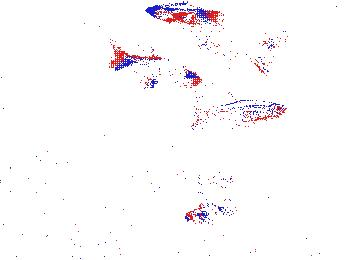X-ray fish: (148, 59, 196, 100)
red belly glassfish: (173, 168, 237, 195), (183, 203, 229, 225)
redtail glassfish: (192, 33, 271, 79), (187, 95, 288, 126), (144, 2, 214, 24)
